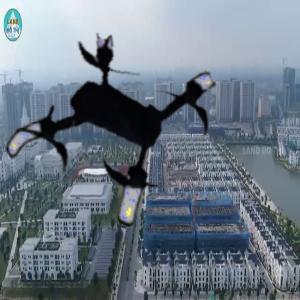drone: (3, 25, 226, 248)
